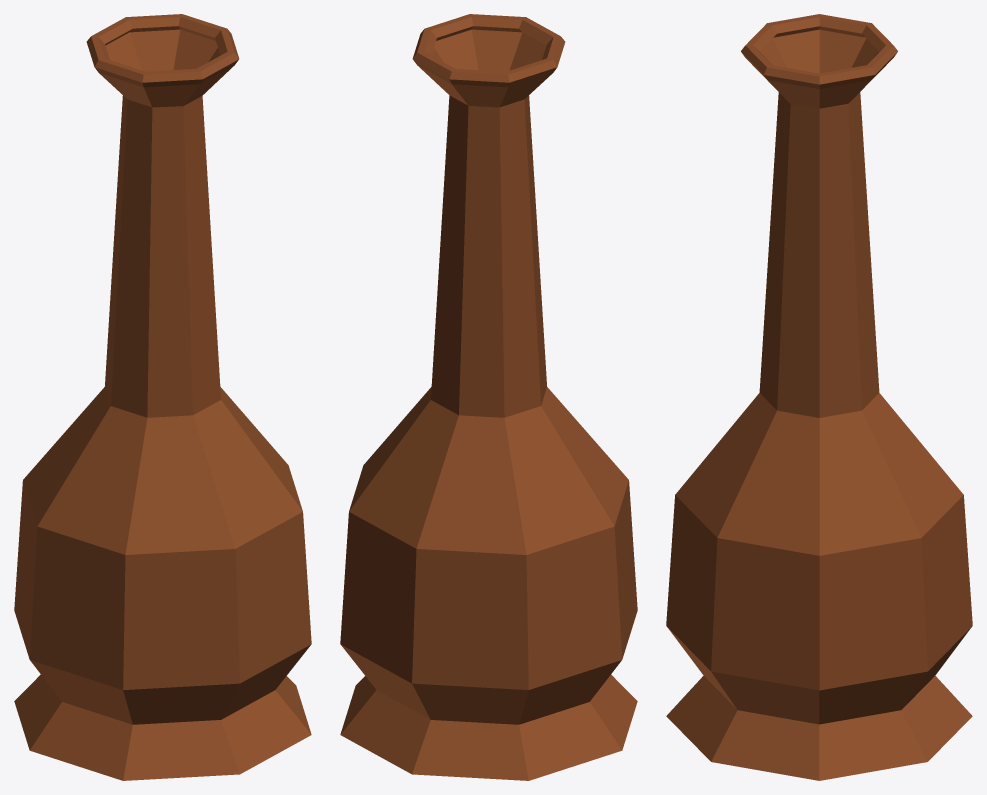
Rendered from Collin_Vase_002.fbx.
The picture shows the model from 3 angles, left to right: view 1: azimuth 30°, elevation 25°; view 2: azimuth 150°, elevation 25°; view 3: azimuth 270°, elevation 25°; orthographic projection.
Visible parts, largest first — view 1: Vase_004; view 2: Vase_004; view 3: Vase_004.
Boxes of the visible parts, box(x1,y1,x2,y2) form: Vase_004: box(14, 14, 311, 780); Vase_004: box(340, 14, 637, 780); Vase_004: box(666, 14, 972, 780).
Bounding box in the file's own units: 24.98 × 60.31 × 24.98.
1 material, 1 textured.
